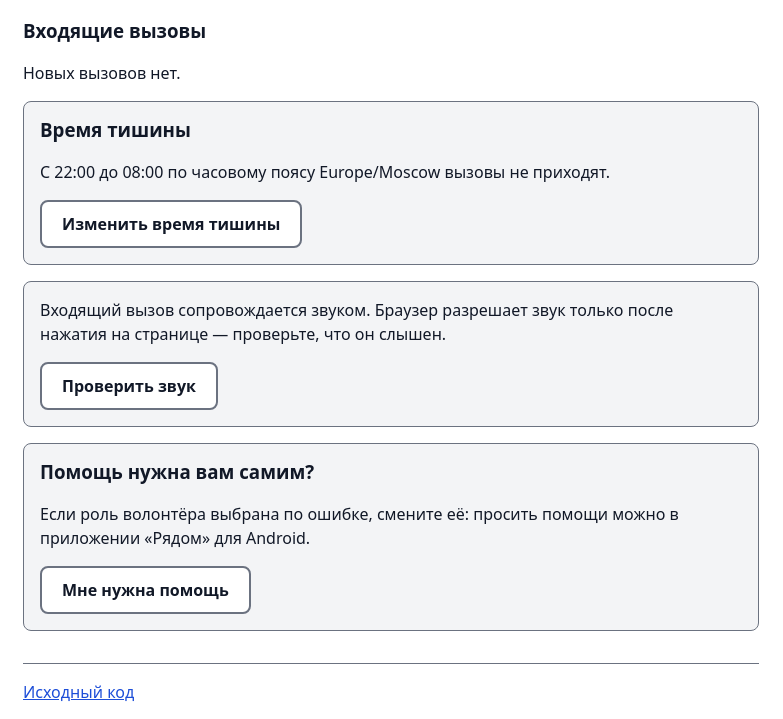
it: roles › lets a volunteer who chose the role by mistake switch to asking for help
(page scrolled)
What coordinates should you click on to do the following:
click the button "Мне нужна помощь"
I would click on:
 (145, 590)
Its box is [40, 566, 251, 614].
(page scrolled)
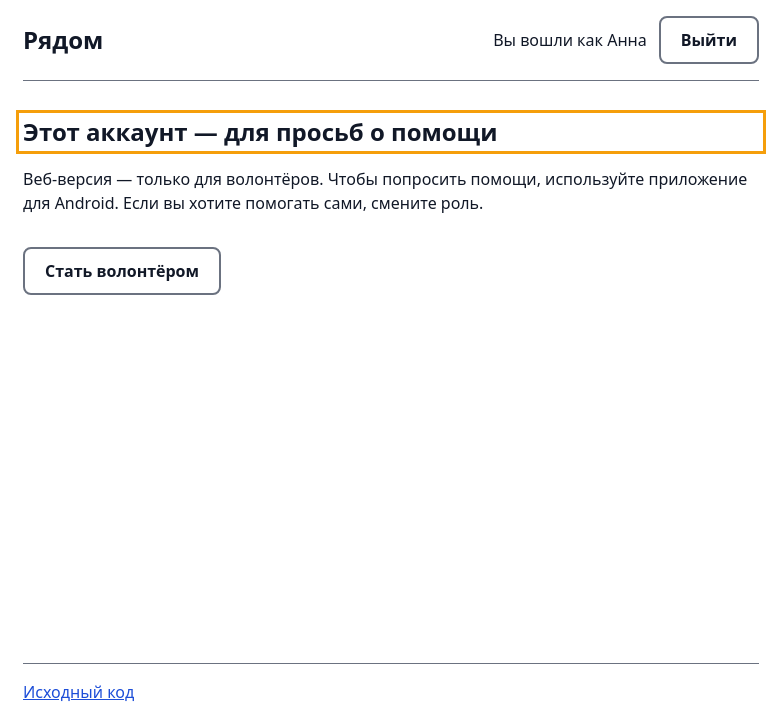
Check: the heading "Этот аккаунт — для просьб о помощи" is shown, box [23, 115, 498, 148]
Check: the button "Стать волонтёром" is shown, box [23, 247, 221, 295]
